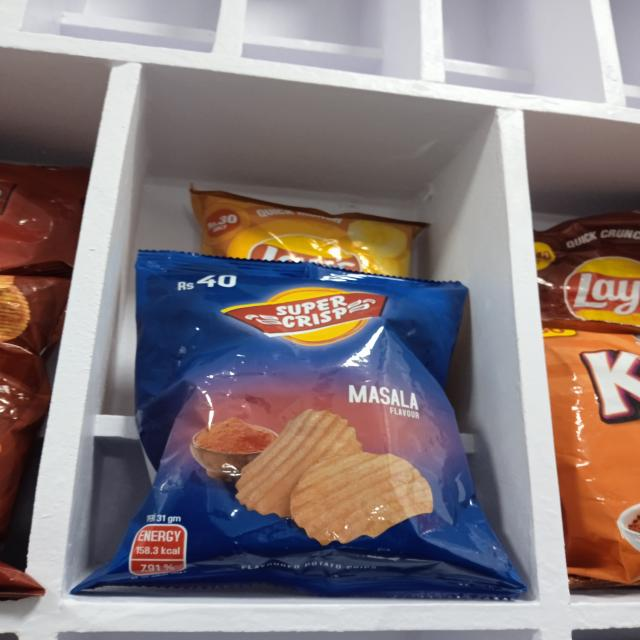Plastic: (158, 281, 457, 577), (569, 328, 640, 587), (203, 217, 404, 262), (540, 236, 640, 320)
